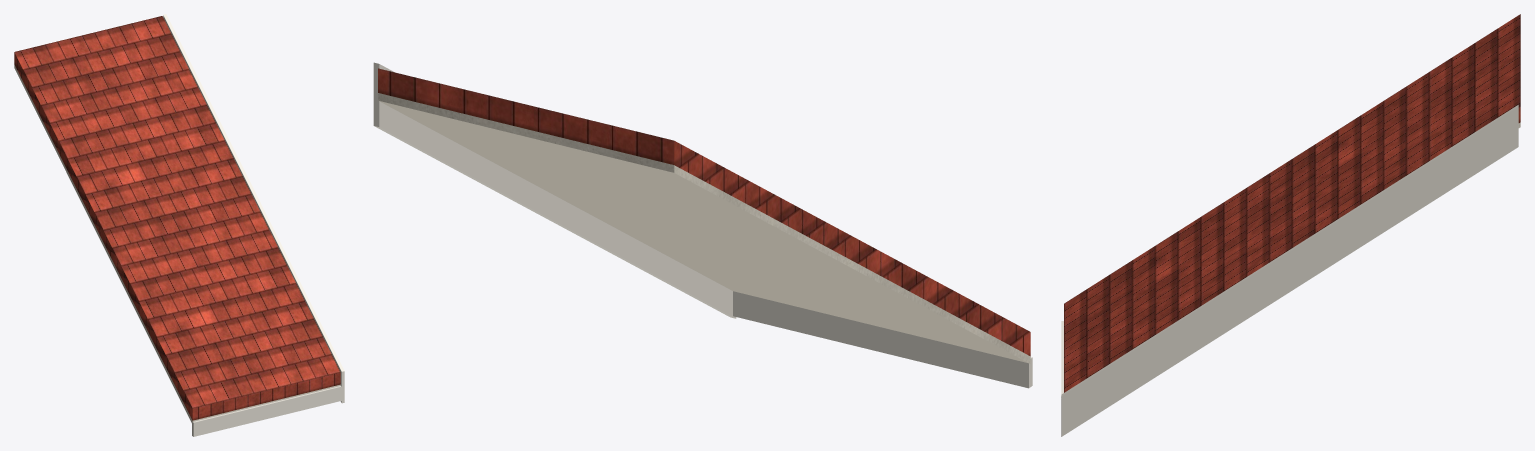
The model's file is roof_front_end.glb.
3 renders of one model, left to right at view 1: azimuth 30°, elevation 25°; view 2: azimuth 150°, elevation 25°; view 3: azimuth 270°, elevation 25°, orthographic. The views are drawn at different scales.
Parts seen in each view (by area): view 1: roof_front_end_roof, roof_front_end_trim, roof_front_end_plaster; view 2: roof_front_end_plaster, roof_front_end_trim, roof_front_end_roof; view 3: roof_front_end_roof, roof_front_end_trim.
Part boxes in pixels (bbox=[...]): roof_front_end_roof: bbox=[14, 16, 340, 420]; roof_front_end_trim: bbox=[163, 14, 344, 436]; roof_front_end_plaster: bbox=[14, 65, 340, 424]; roof_front_end_plaster: bbox=[378, 93, 1030, 363]; roof_front_end_trim: bbox=[373, 62, 1032, 388]; roof_front_end_roof: bbox=[378, 68, 1030, 356]; roof_front_end_roof: bbox=[1064, 14, 1520, 392]; roof_front_end_trim: bbox=[1061, 105, 1518, 436].
Size of the model in its own units: 2.45 by 4 by 5.03.
3 materials, 2 textured.
